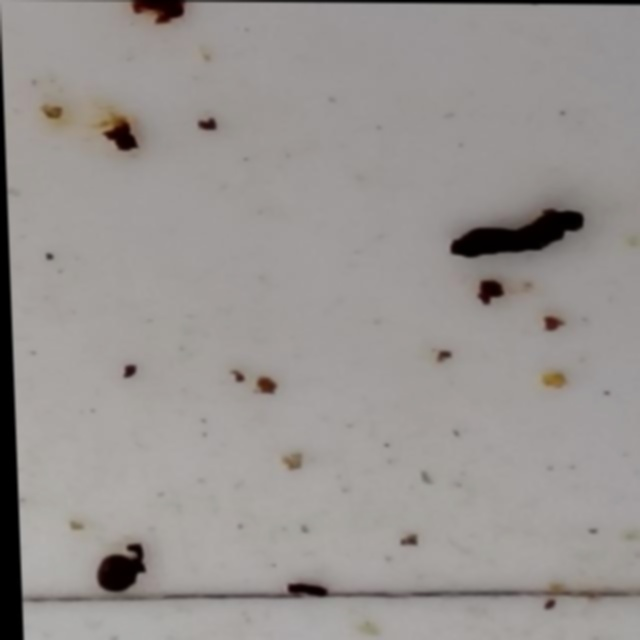varroa: (85, 554, 138, 597)
